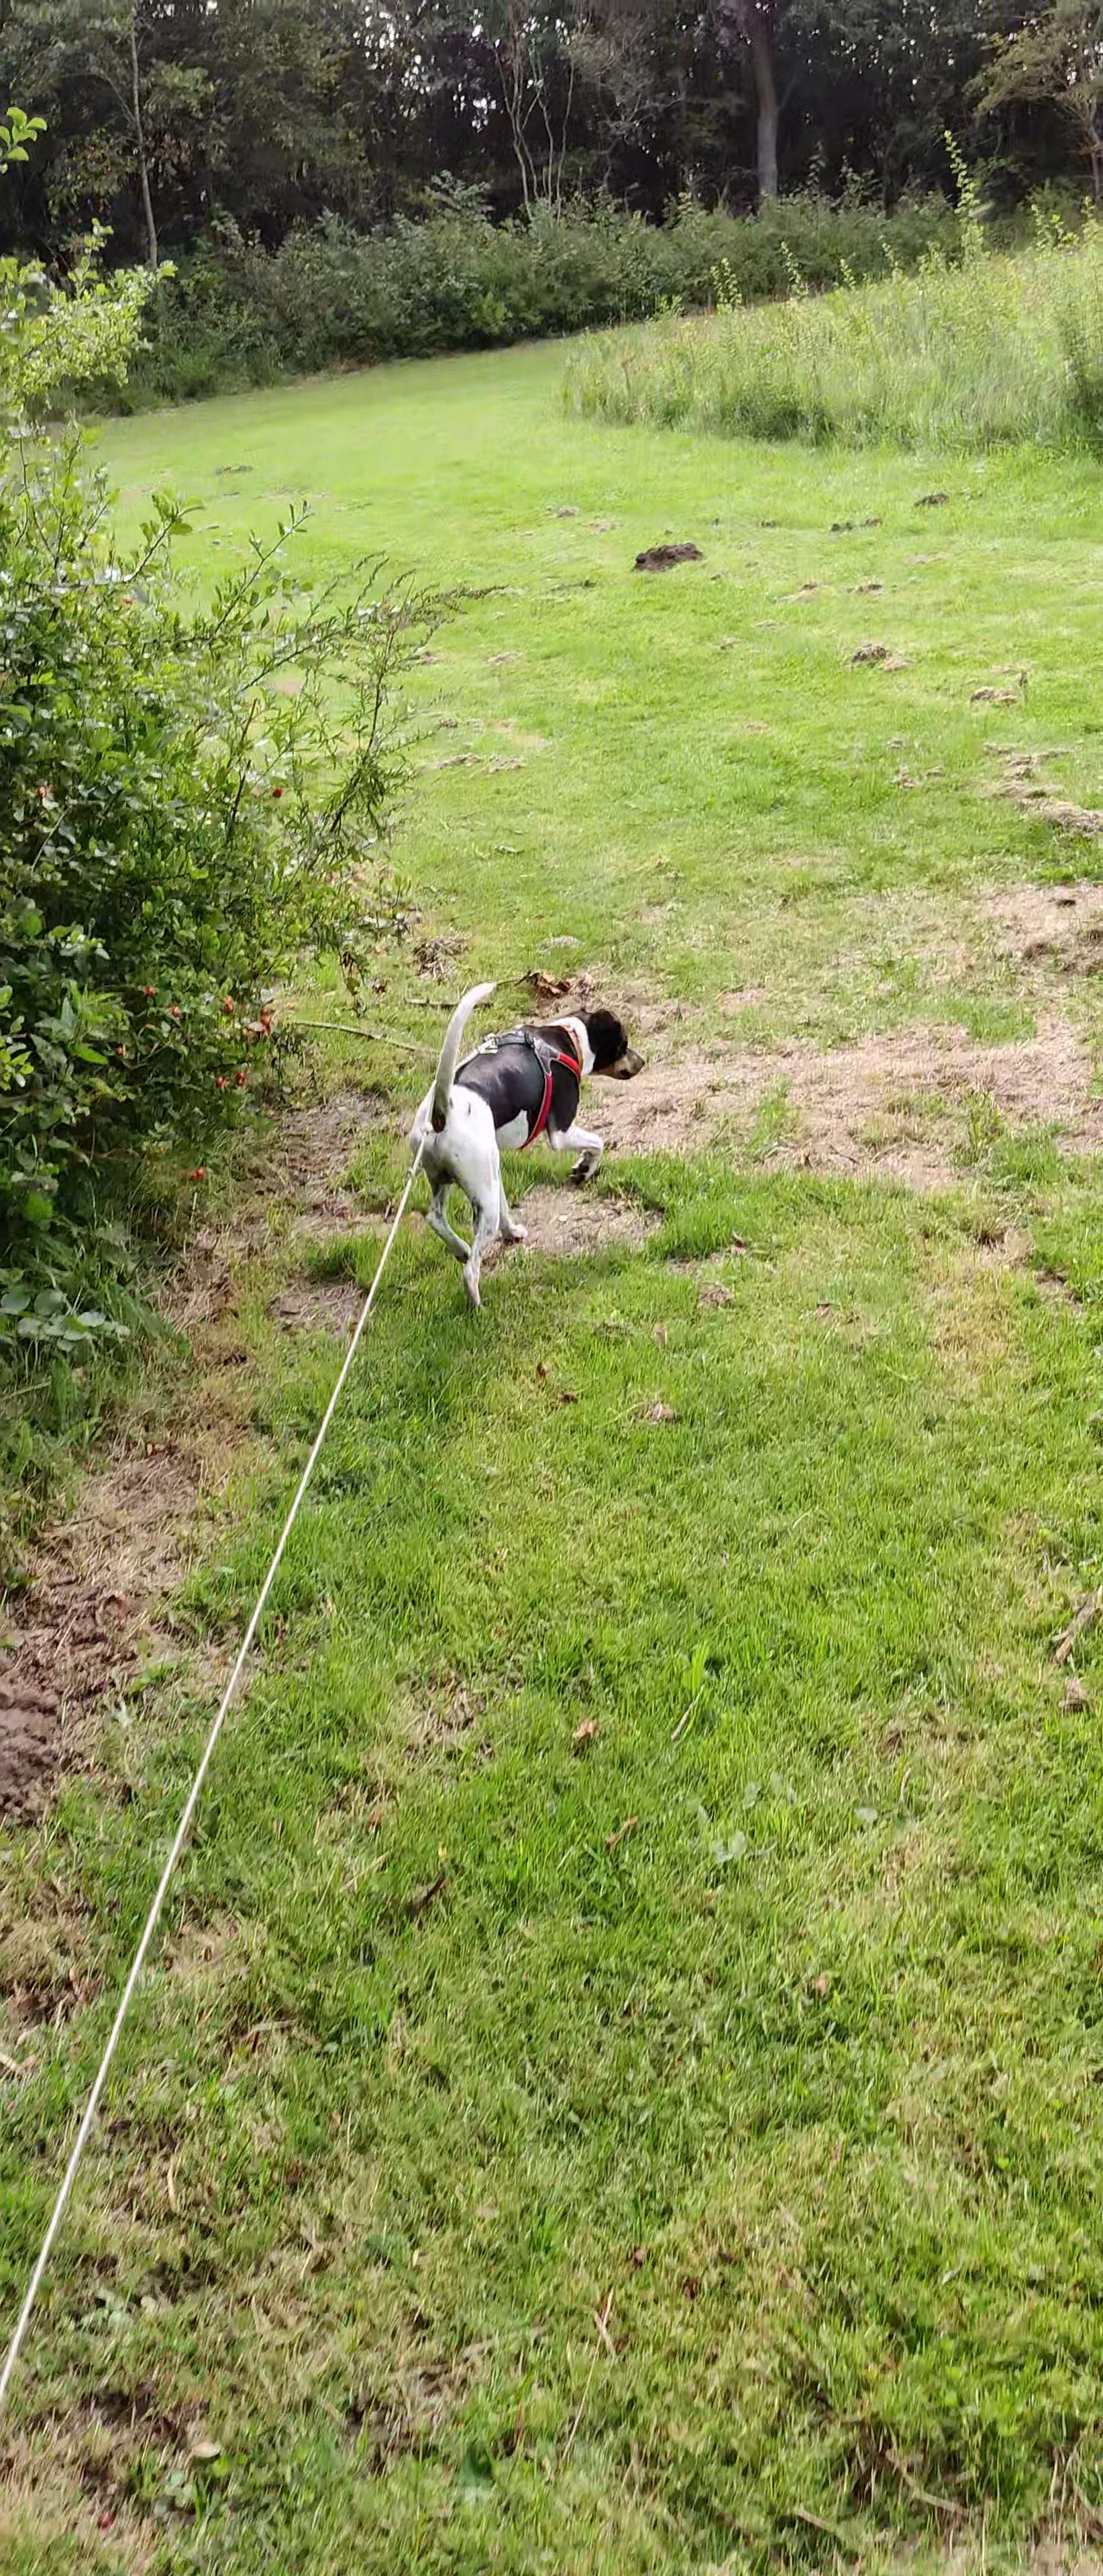Dog: (398, 979, 648, 1314)
